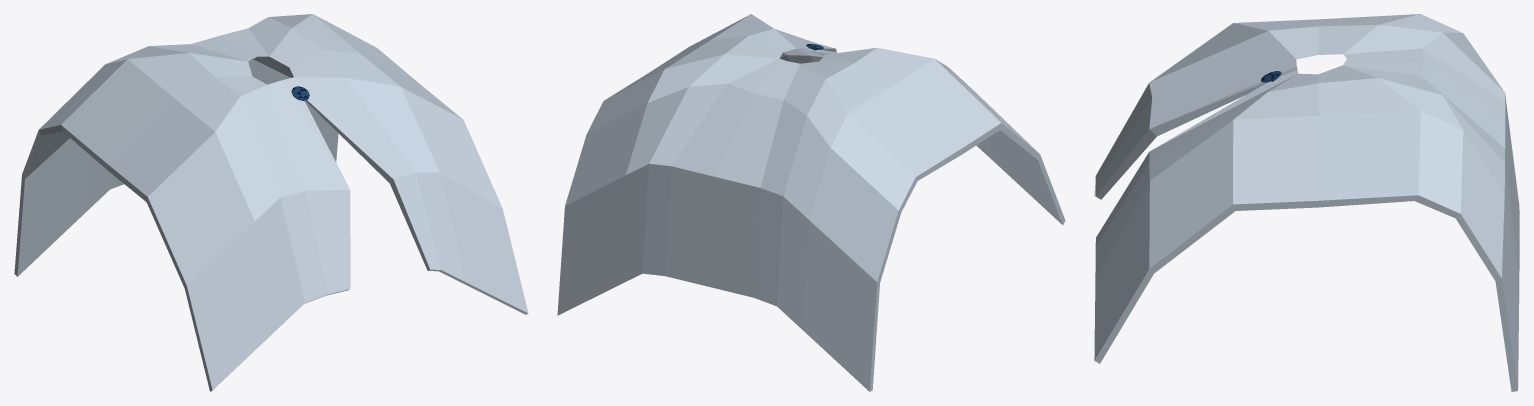
File: Capa dantev2.fbx
The picture shows the model from 3 angles, left to right: view 1: azimuth 30°, elevation 25°; view 2: azimuth 150°, elevation 25°; view 3: azimuth 270°, elevation 25°; orthographic projection. The views are drawn at different scales.
Parts seen in each view (by area): view 1: Manto; view 2: Manto; view 3: Manto.
Part boxes in pixels (x1,y1,x2,y2): Manto: (14,14,528,391); Manto: (557,14,1065,391); Manto: (1094,14,1519,391).
Size of the model in its own units: 1.31 by 0.9543 by 1.42.
